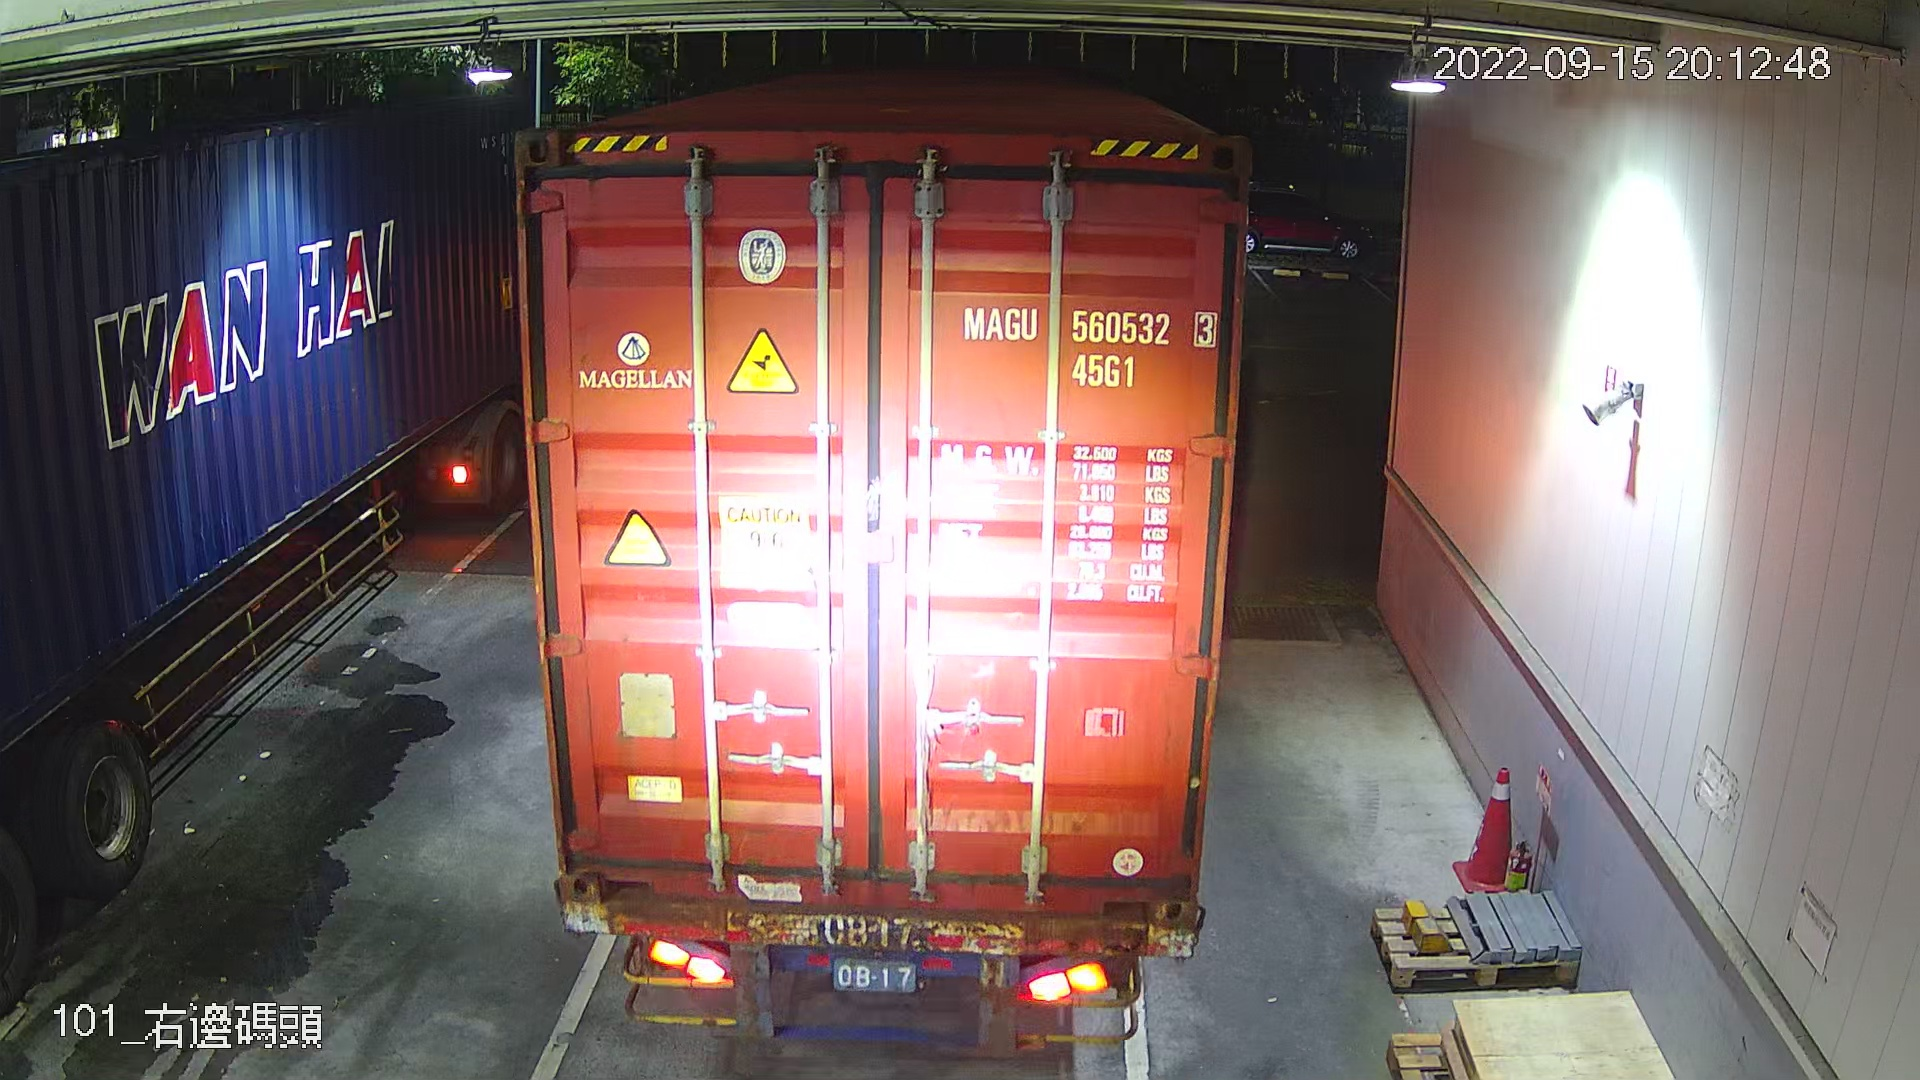container: (947, 287, 1226, 400)
